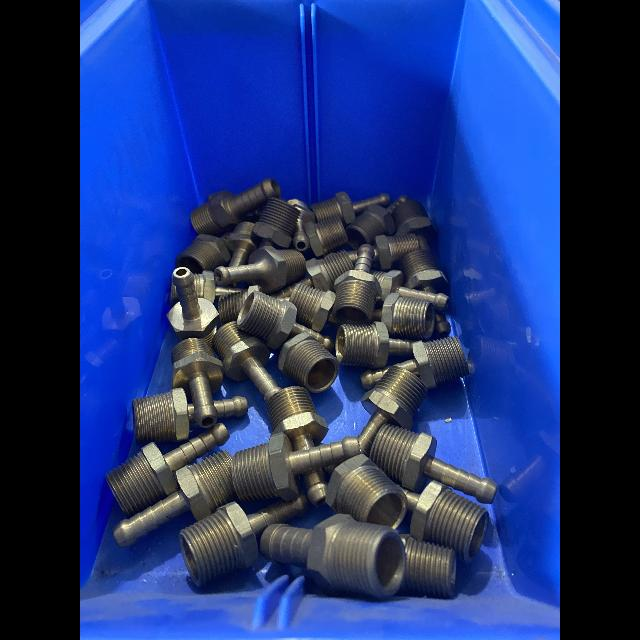Brass: (260, 514, 406, 598), (181, 492, 309, 585), (112, 451, 236, 547), (106, 423, 229, 516), (368, 422, 498, 503), (232, 432, 361, 501), (398, 480, 489, 562), (357, 366, 428, 454), (361, 335, 470, 390), (326, 455, 407, 529), (237, 291, 334, 352), (213, 322, 282, 402), (191, 178, 280, 234), (214, 246, 306, 295), (172, 338, 223, 426), (269, 250, 354, 298), (166, 267, 218, 345), (331, 244, 380, 325), (266, 387, 328, 451), (278, 333, 338, 393), (335, 322, 413, 368), (400, 534, 456, 598), (346, 195, 409, 250), (133, 388, 195, 442), (371, 293, 436, 340), (370, 270, 448, 307), (311, 192, 390, 224), (253, 198, 299, 249), (290, 283, 336, 331), (395, 200, 438, 250), (176, 234, 231, 273), (401, 250, 449, 294), (219, 285, 262, 326), (193, 271, 248, 302), (372, 233, 419, 269), (305, 218, 348, 257), (226, 222, 258, 266), (288, 200, 314, 251), (214, 396, 248, 418), (307, 470, 327, 505), (437, 312, 450, 332), (347, 250, 358, 264)
